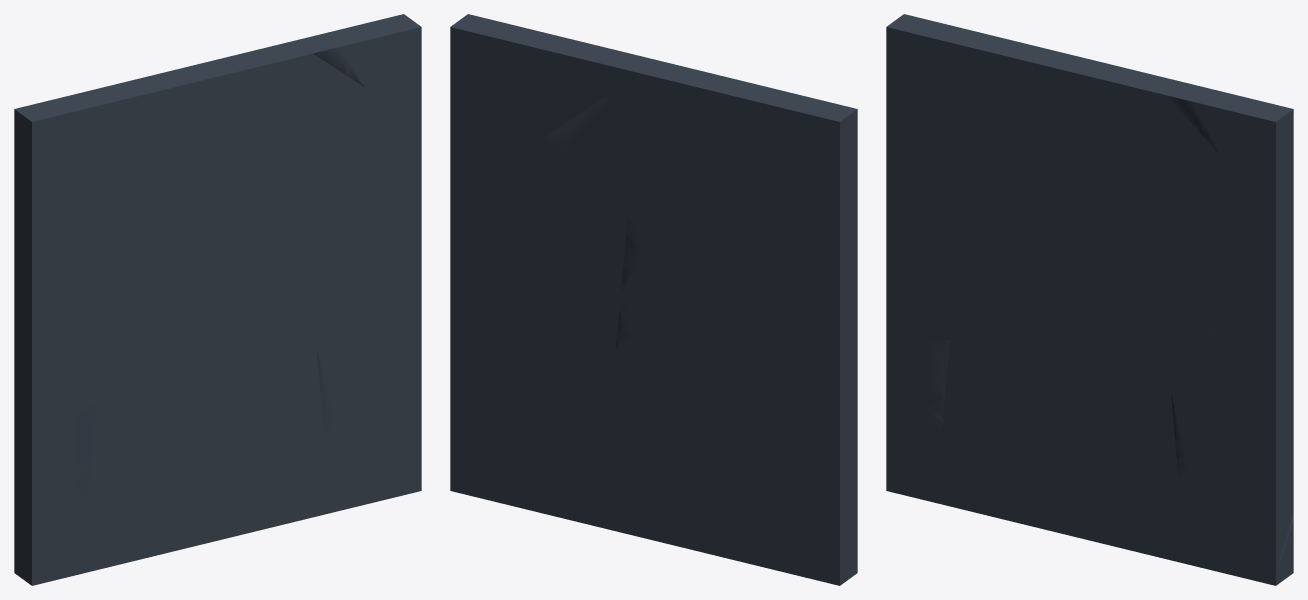
File: wallshattered.fbx
3 renders of one model, left to right at view 1: azimuth 30°, elevation 25°; view 2: azimuth 150°, elevation 25°; view 3: azimuth 330°, elevation 25°, orthographic.
Visible parts, largest first — view 1: shard36, shard66, shard33, shard55, shard64, shard68, shard28, shard57, shard70, shard44, shard26, shard49 (+36 smaller); view 2: shard33, shard36, shard66, shard64, shard49, shard70, shard59, shard56, shard46, shard35, shard53, shard47 (+33 smaller); view 3: shard36, shard44, shard64, shard55, shard66, shard68, shard28, shard57, shard49, shard33, shard26, shard58 (+36 smaller).
Boxes of the visible parts, x1,y1,x2,y2 form: shard36: (14,74,163,189); shard66: (14,159,133,291); shard33: (14,239,104,428); shard55: (240,53,350,164); shard64: (332,376,421,506); shard68: (150,66,256,189); shard28: (128,195,291,276); shard57: (291,181,421,297); shard70: (14,438,90,585); shard44: (354,236,421,412); shard26: (32,442,151,585); shard49: (261,14,421,89); shard33: (748,241,857,415); shard36: (695,77,857,165); shard66: (715,159,857,277); shard64: (450,342,536,503); shard49: (450,14,592,101); shard70: (751,449,857,585); shard59: (450,87,565,187); shard56: (654,396,742,562); shard46: (505,391,598,526); shard35: (554,212,627,362); shard53: (741,322,857,441); shard47: (491,237,564,377); shard36: (886,14,1047,151); shard44: (1208,289,1293,507); shard64: (1186,435,1293,585); shard55: (1100,71,1204,215); shard66: (886,109,987,228); shard68: (1004,49,1111,156); shard28: (982,190,1146,283); shard57: (1146,254,1287,335); shard49: (1151,74,1293,178); shard33: (886,196,958,333); shard26: (886,395,1005,505); shard58: (1120,170,1229,281).
Bounding box in the file's own units: 2502 × 2846 × 197.
